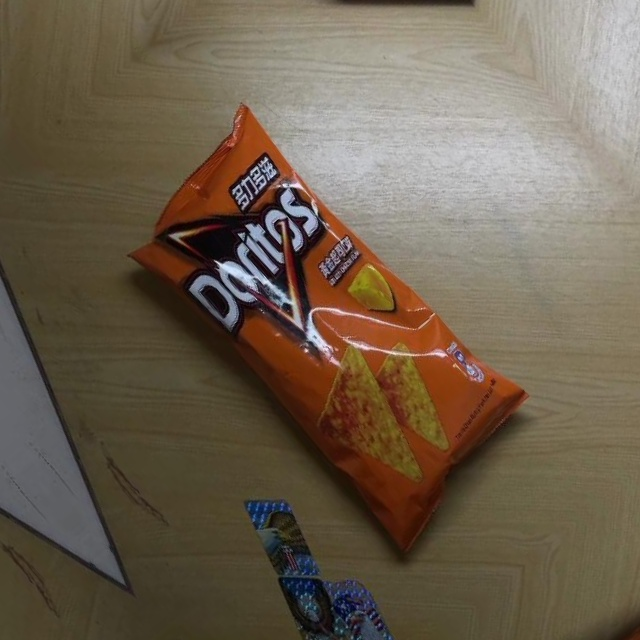Doritos: (100, 84, 561, 575)
